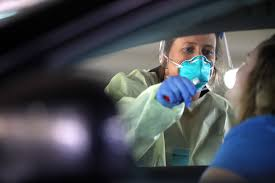masked: (158, 31, 224, 94)
